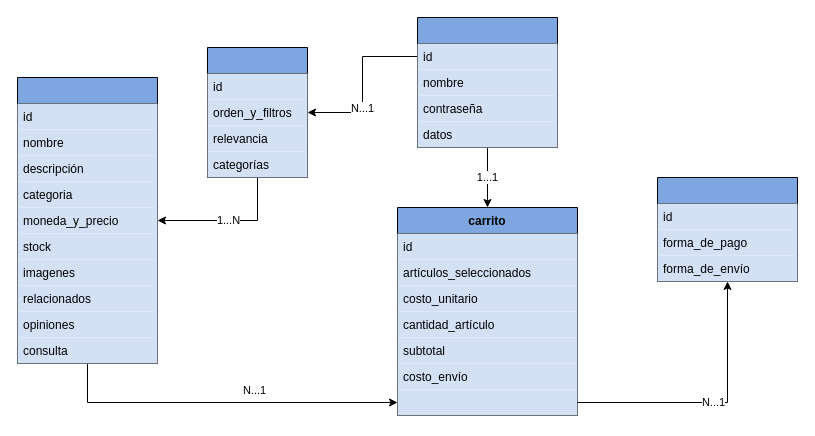
The diagram is 815 pixels wide and 436 high, and some of its shapes have lost their labels. Each missing label, with the box of its shape:
artículo: (16, 76, 158, 364)
compra: (656, 176, 798, 282)
costo_total: (397, 389, 577, 415)
listado_articulos: (206, 46, 308, 178)
usuario: (416, 16, 558, 148)
